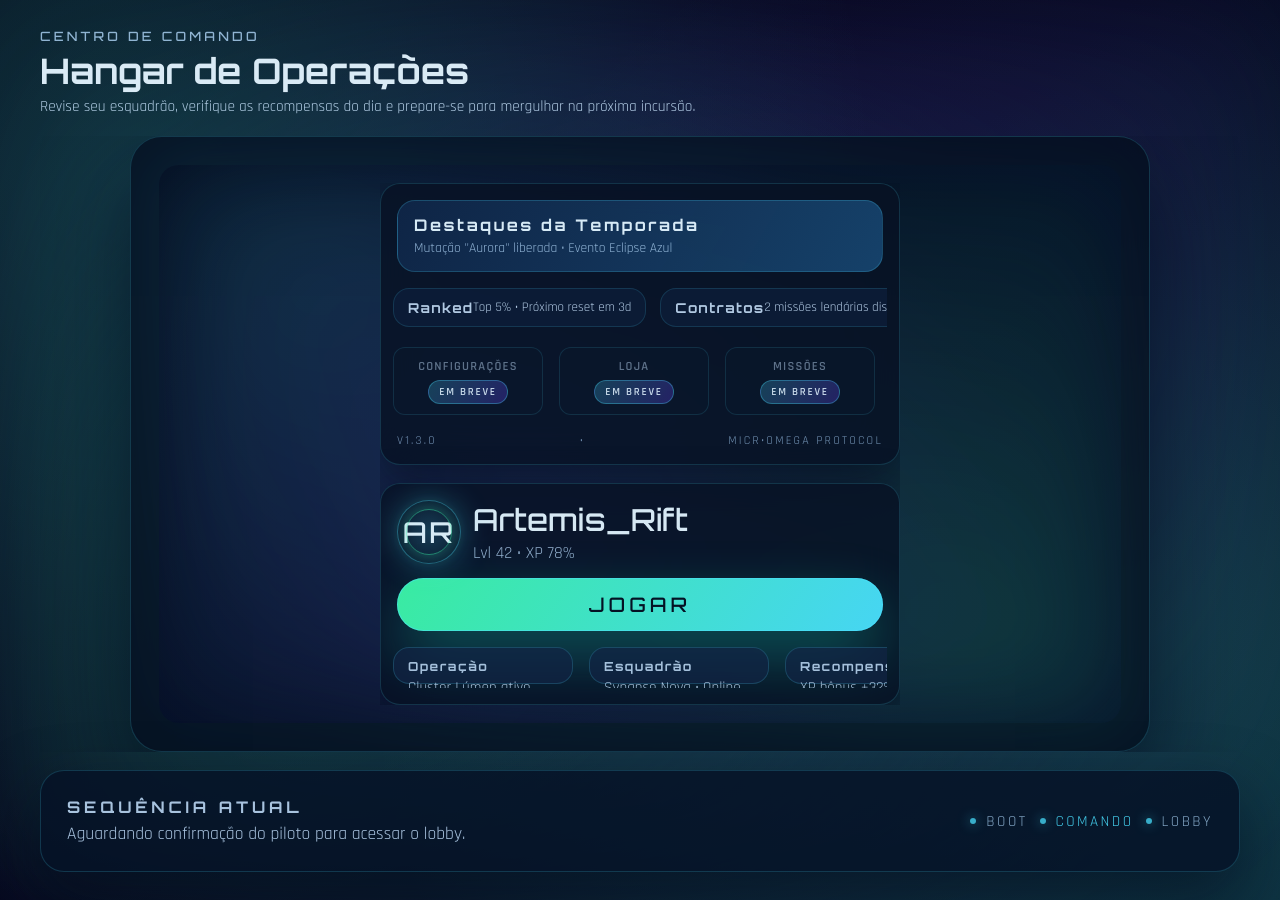
Test case: MicroWorldOnboardingFlow viewport variants › renders mobile variants for menu and lobby stages
This screenshot has width=1280, height=900.
Expected: the element with test id "main-menu-screen-mobile" is shown, 159,165 -> 1121,723
Click the button with test id "main-menu-play". click: (640, 604)
box: 397,578 -> 883,631
(page scrolled)
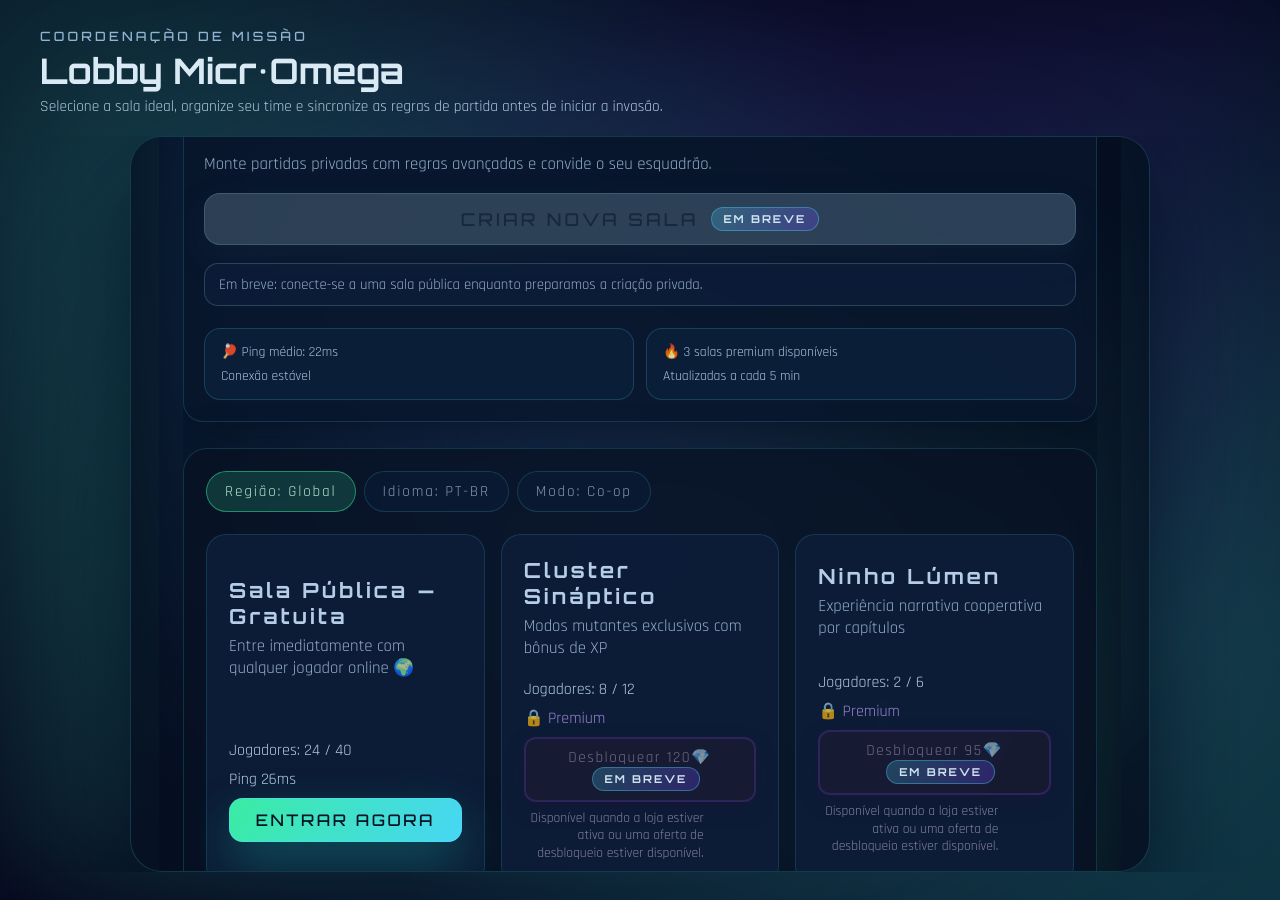
Result: the element with test id "lobby-screen-mobile" is shown
